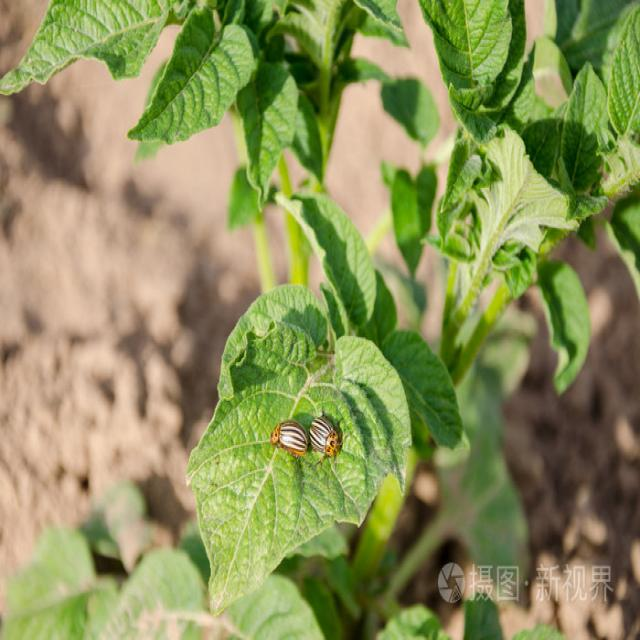ShuCaiHuaBanChong-Grown-: (271, 411, 313, 465), (308, 410, 340, 466)
